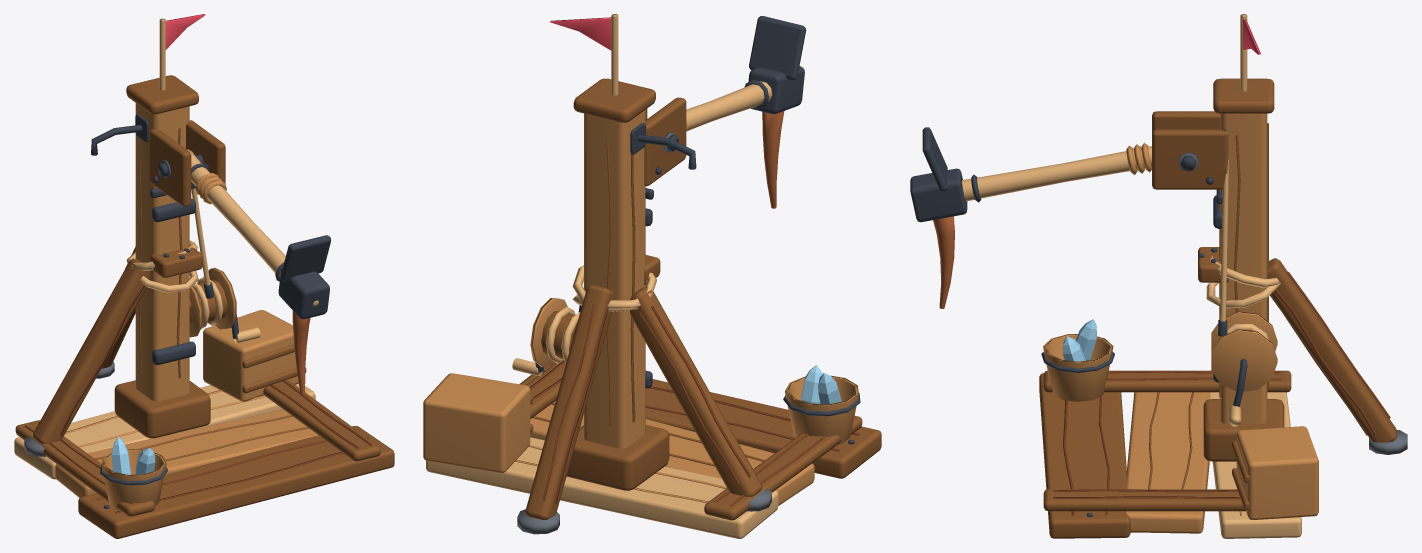
File: IcePickPost_T1.fbx
3 views of the same model, side by side, from view 1: azimuth 30°, elevation 25°; view 2: azimuth 150°, elevation 25°; view 3: azimuth 270°, elevation 25° (orthographic). The views are drawn at different scales.
Parts seen in each view (by area): view 1: IcePickPostT1Base, IcePickPostT1Post, IcePickPostT1Junk, IcePickPostT1Braces, IcePickPostT1Pick, IcePickPostT1Pivot, IcePickPostT1Winch; view 2: IcePickPostT1Post, IcePickPostT1Base, IcePickPostT1Braces, IcePickPostT1Junk, IcePickPostT1Pick, IcePickPostT1Winch, IcePickPostT1Pivot; view 3: IcePickPostT1Base, IcePickPostT1Post, IcePickPostT1Junk, IcePickPostT1Pick, IcePickPostT1Braces, IcePickPostT1Pivot, IcePickPostT1Winch.
Part boxes in pixels (x1,y1,x2,y2): IcePickPostT1Base: [14, 379, 394, 538]; IcePickPostT1Post: [91, 14, 210, 438]; IcePickPostT1Junk: [100, 310, 306, 509]; IcePickPostT1Braces: [24, 240, 198, 456]; IcePickPostT1Pick: [187, 149, 330, 394]; IcePickPostT1Pivot: [149, 120, 225, 206]; IcePickPostT1Winch: [189, 188, 260, 343]; IcePickPostT1Post: [550, 14, 696, 490]; IcePickPostT1Base: [426, 359, 881, 538]; IcePickPostT1Braces: [517, 265, 771, 534]; IcePickPostT1Junk: [423, 365, 860, 472]; IcePickPostT1Pick: [686, 16, 806, 208]; IcePickPostT1Winch: [512, 298, 581, 375]; IcePickPostT1Pivot: [644, 97, 686, 199]; IcePickPostT1Base: [1039, 370, 1301, 538]; IcePickPostT1Post: [1198, 14, 1284, 461]; IcePickPostT1Junk: [1041, 319, 1318, 519]; IcePickPostT1Pick: [910, 127, 1151, 308]; IcePickPostT1Braces: [1206, 256, 1407, 454]; IcePickPostT1Pivot: [1152, 111, 1228, 204]; IcePickPostT1Winch: [1211, 129, 1277, 426].
Size of the model in its own units: 108 by 150 by 150.
